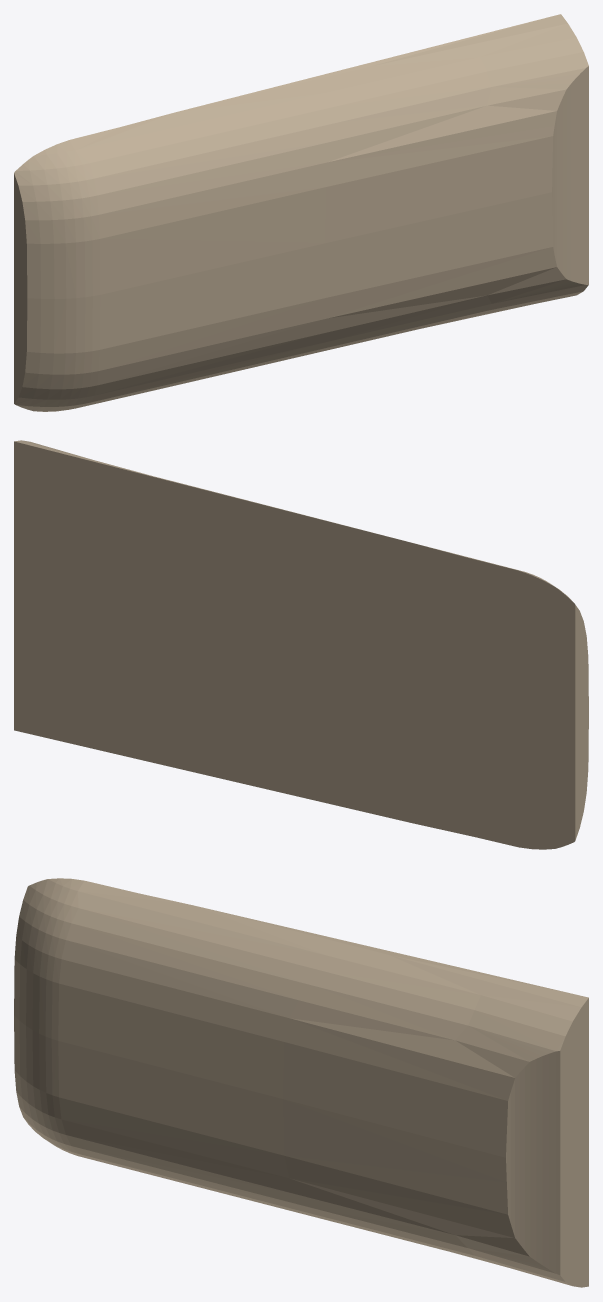
The model's file is T-CAN-PLUG4.glb.
The picture shows the model from 3 angles, top to bottom: view 1: azimuth 30°, elevation 25°; view 2: azimuth 150°, elevation 25°; view 3: azimuth 330°, elevation 25°; orthographic projection. The views are drawn at different scales.
Parts seen in each view (by area): view 1: geometry_0; view 2: geometry_0; view 3: geometry_0.
Part boxes in pixels (<box>): geometry_0: <box>14,14,588,411</box>; geometry_0: <box>14,440,588,849</box>; geometry_0: <box>14,878,588,1287</box>.
Size of the model in its own units: 1705 by 839 by 194.
